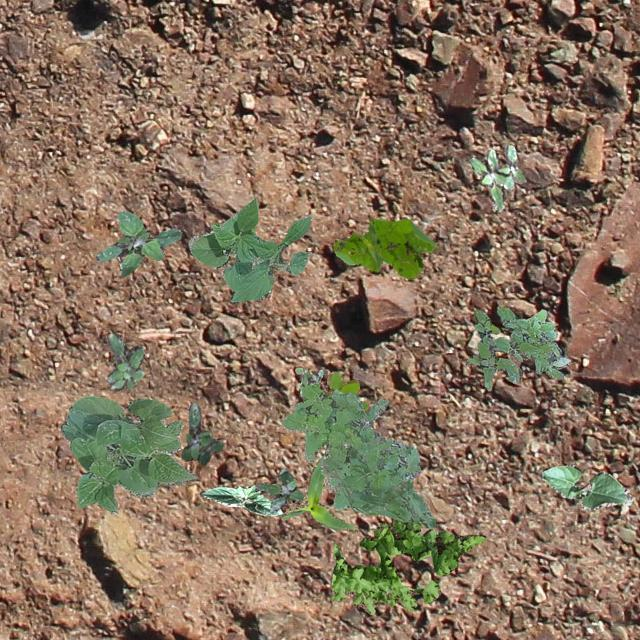crop: (60, 396, 196, 512), (188, 196, 310, 302), (280, 454, 356, 532), (540, 462, 632, 510), (198, 484, 282, 514)
weed: (280, 382, 434, 526), (330, 518, 484, 612), (464, 306, 570, 388), (332, 218, 438, 278), (94, 210, 180, 276), (468, 144, 524, 210), (180, 402, 222, 464), (106, 332, 144, 389), (255, 468, 302, 512), (318, 370, 368, 410), (294, 366, 322, 394), (124, 414, 132, 422)
